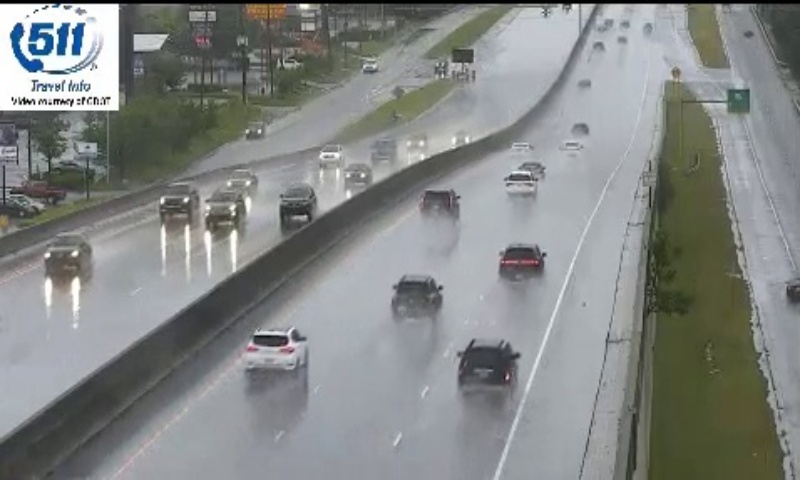car: (456, 340, 517, 388), (246, 327, 307, 369), (391, 274, 440, 314), (498, 243, 543, 280), (420, 188, 458, 217), (504, 171, 536, 192)
